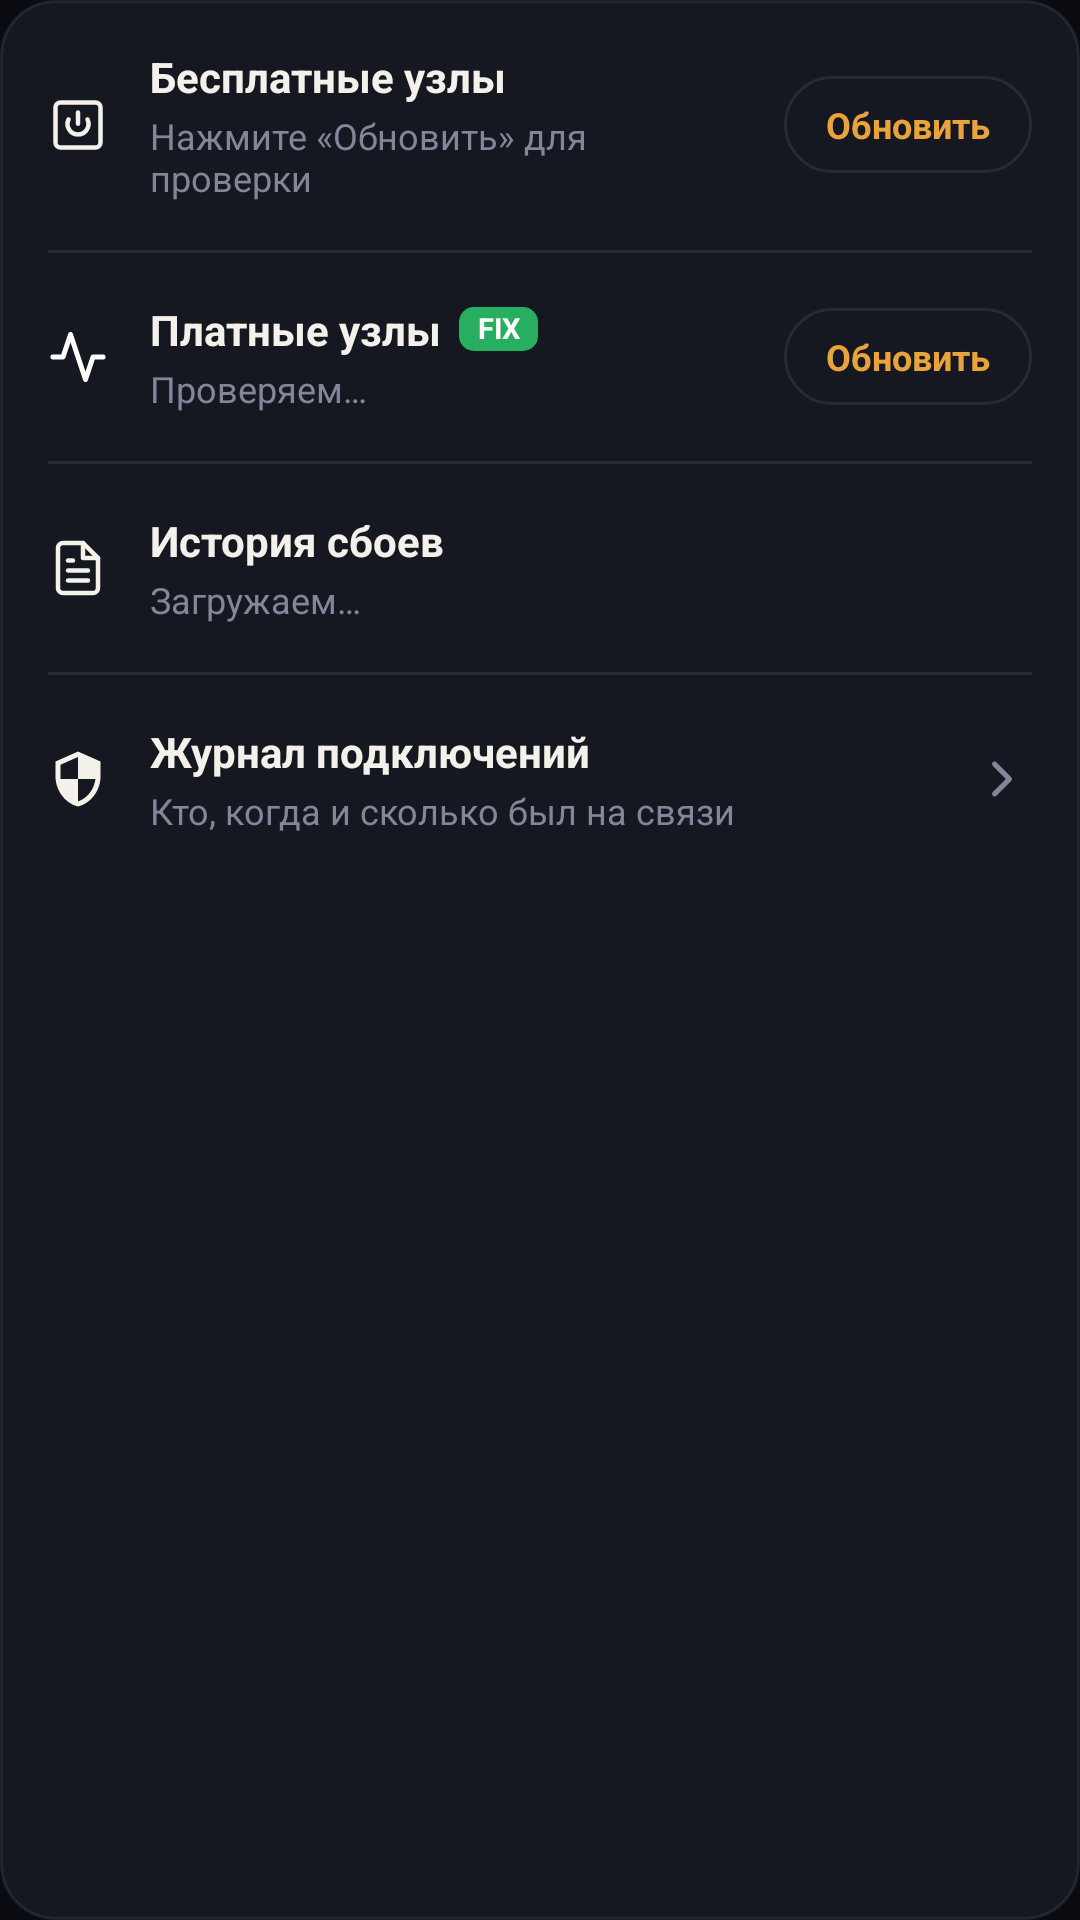

Where to tap for icons on this 1080px x 1920px app screen, as (x,y):
chevron right: (1002,779)
file text: (78,568)
pulse: (78,357)
